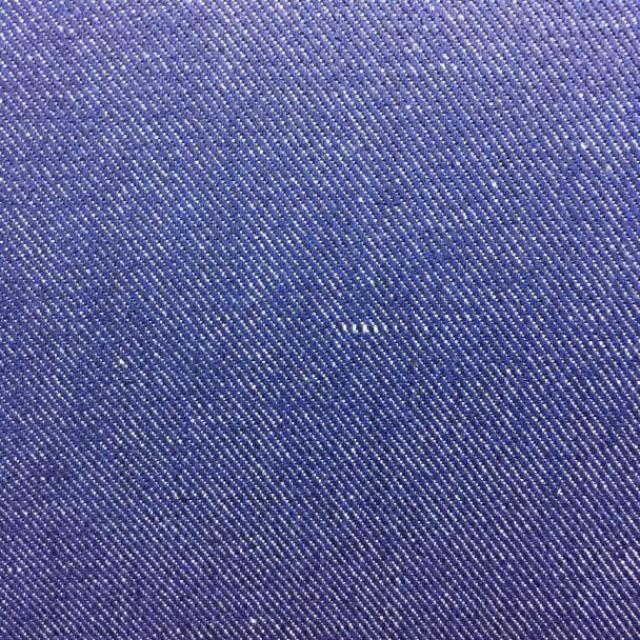Knot: (339, 321, 398, 337)
